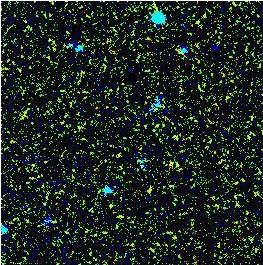star: (136, 174, 166, 204)
